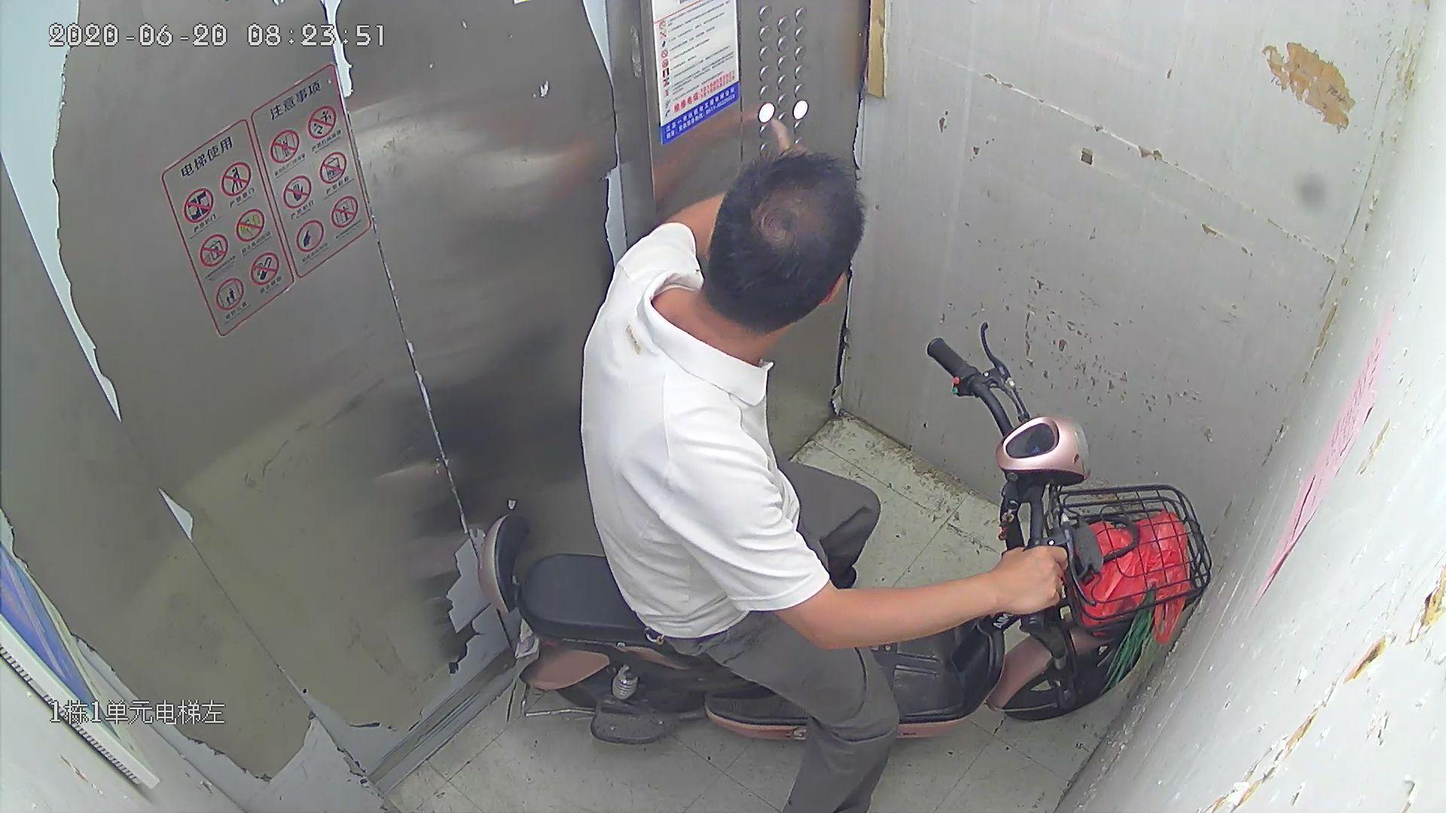Electric-bicycle: (478, 317, 1207, 748)
